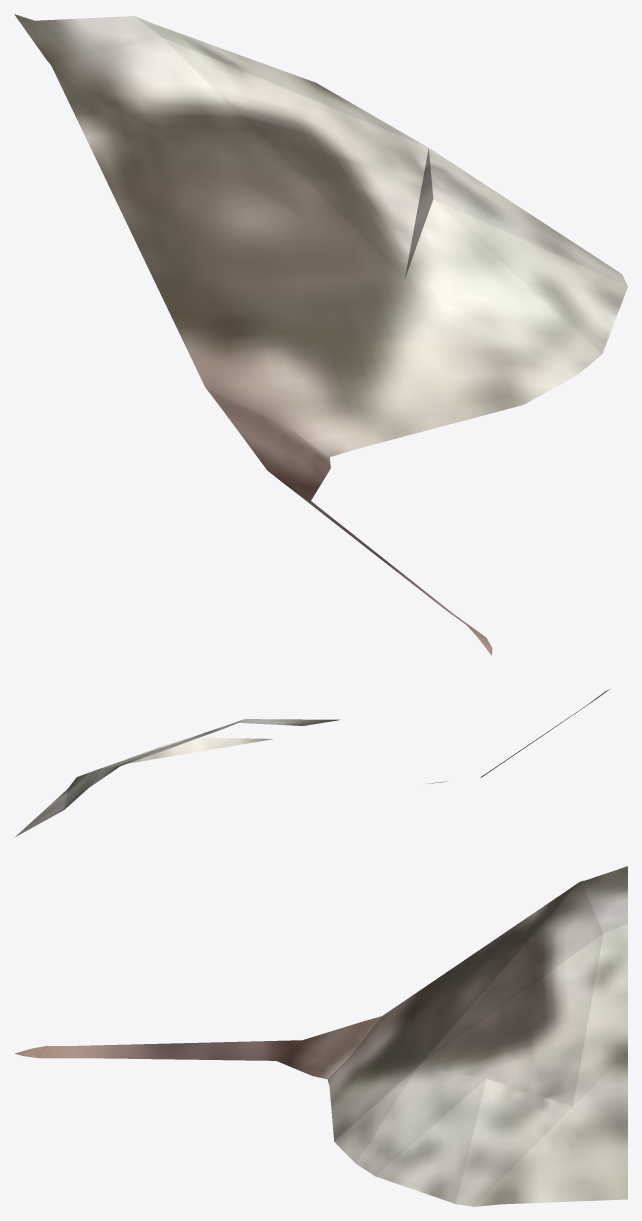
3 views of the same model, one above another, from view 1: azimuth 30°, elevation 25°; view 2: azimuth 150°, elevation 25°; view 3: azimuth 270°, elevation 25° (orthographic). The views are drawn at different scales.
Bounding box in the file's own units: 0.1324 × 0.0756 × 0.2243.
Materials: 1 (1 with a texture image).
